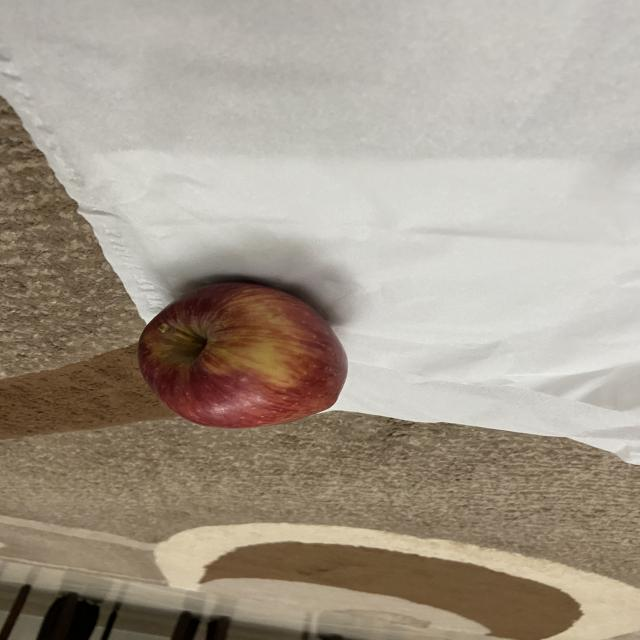apple: (126, 274, 352, 438)
